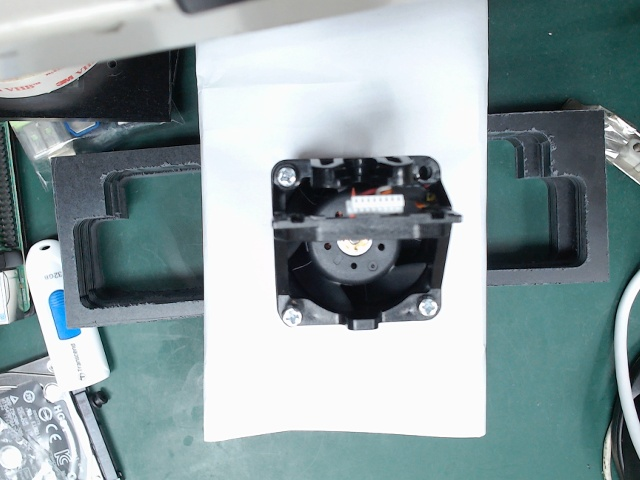Phase1_panel_missing: (244, 204, 474, 252)
Phase1_screw_loose: (259, 273, 319, 342), (258, 141, 309, 202)
